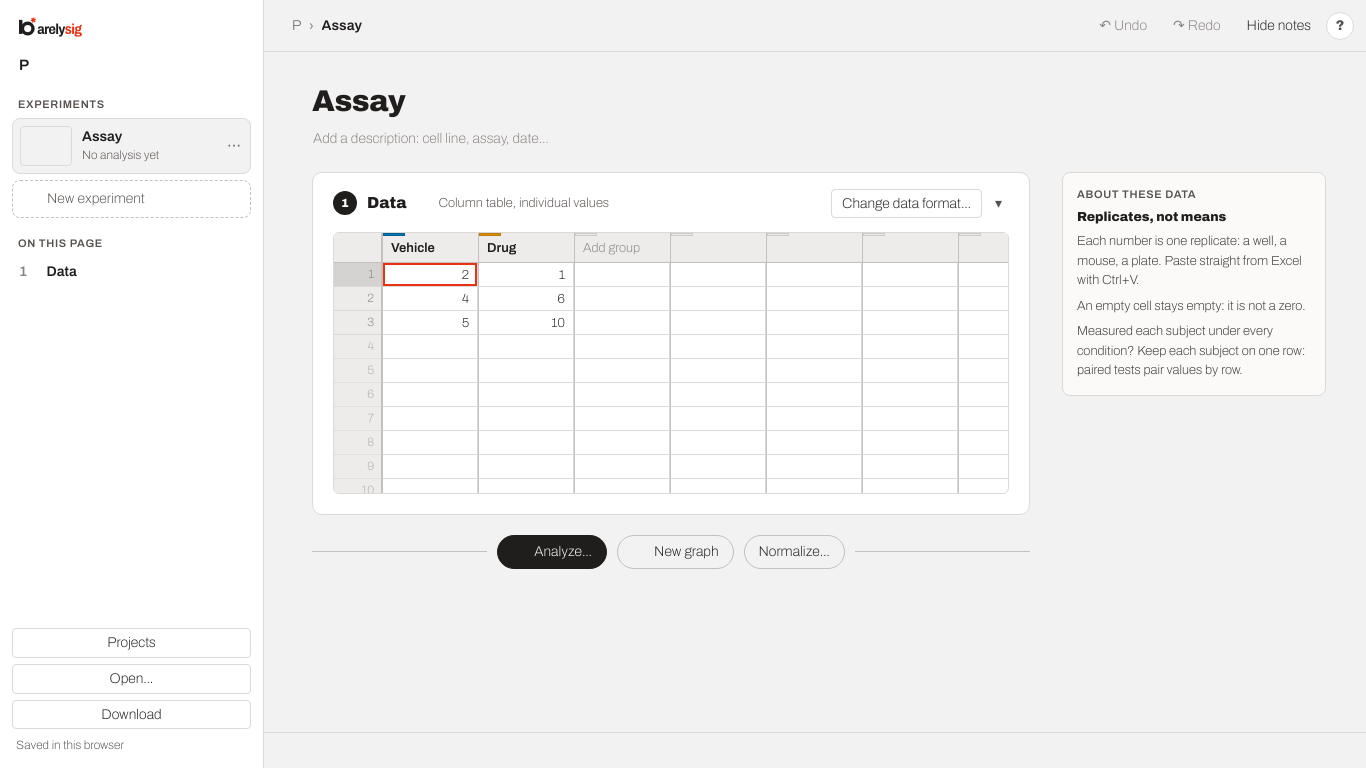
Normalize › makes a calculated table that follows the original and says what it is
The width and height of the screenshot is (1366, 768).
Click the button "Normalize…" at (794, 552), box [744,535,845,569]
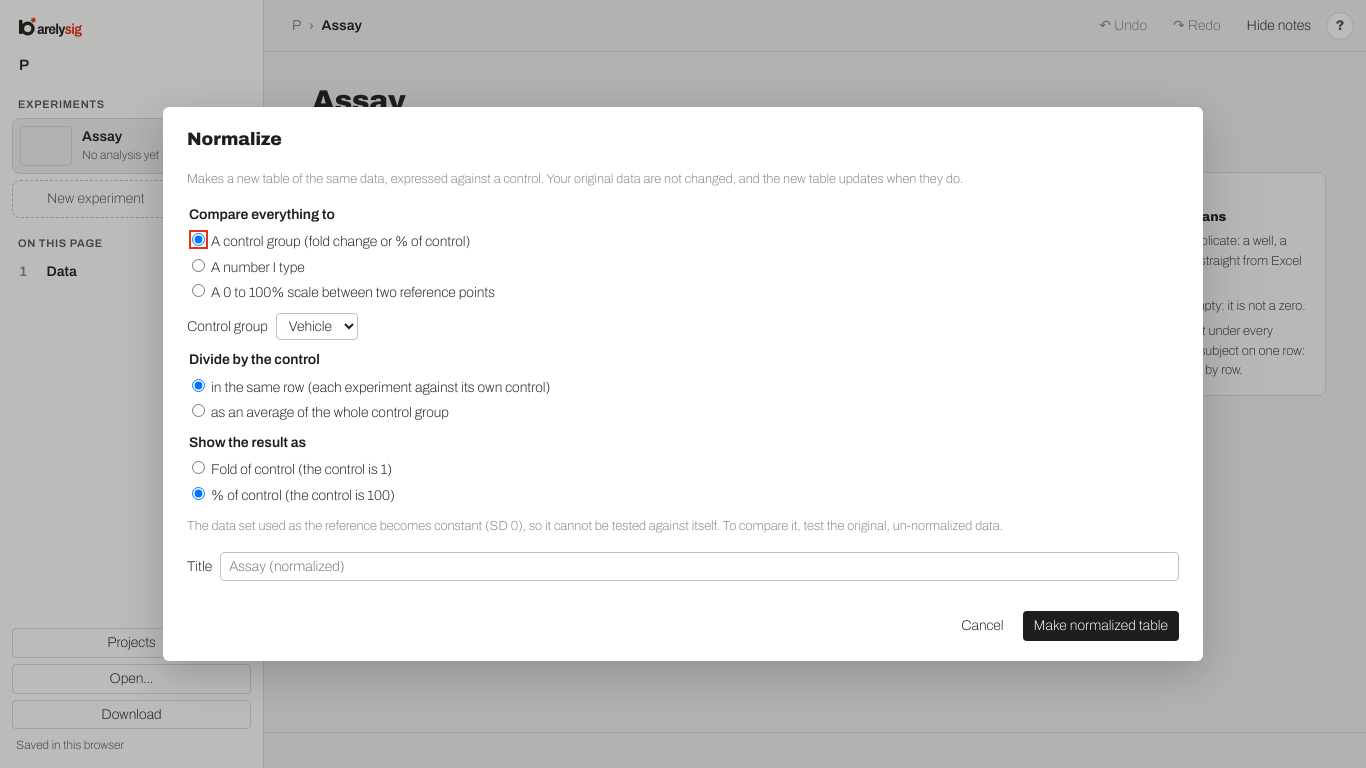
Click the button "Make normalized table" at (1101, 626), box [1023,611,1179,641]
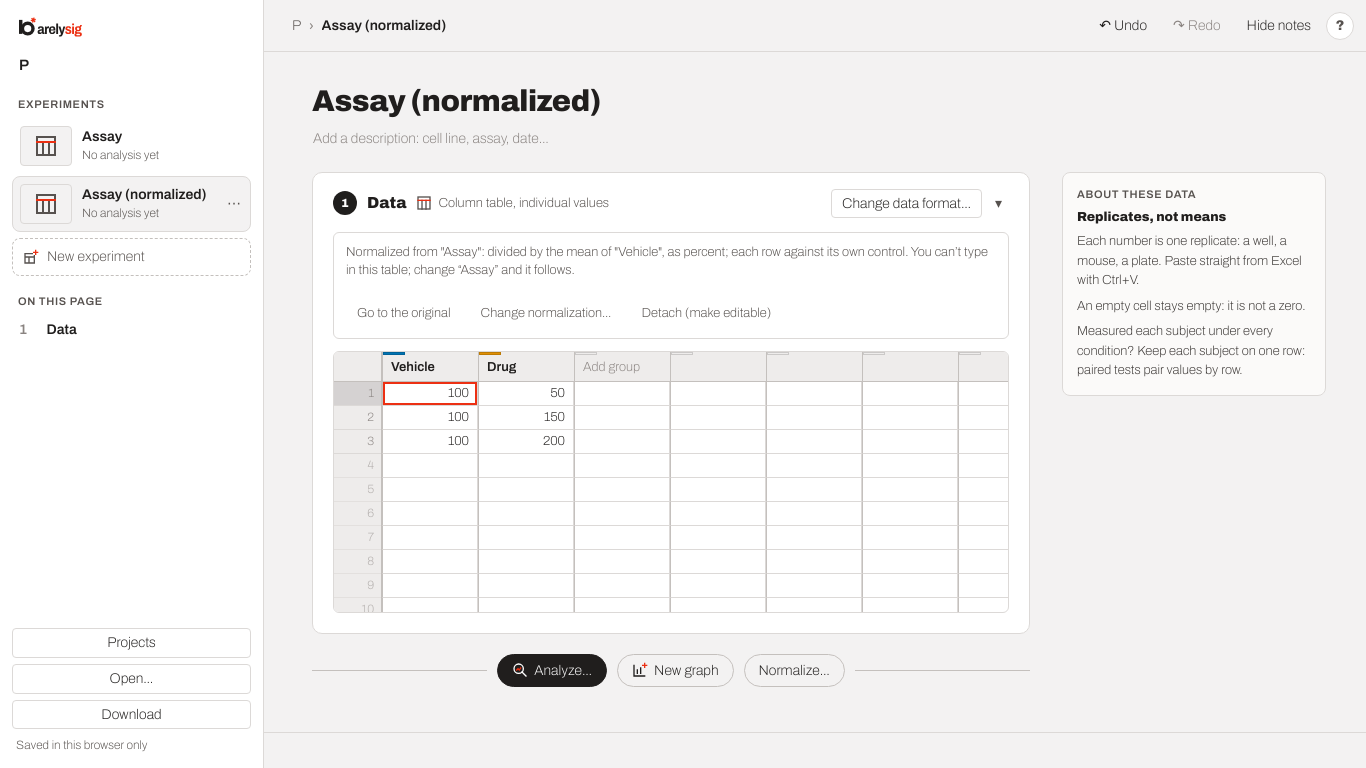
Check: the text "Assay (normalized)" below "Experiments" is shown, box [82,187,207,202]
Check: the button "Detach (make editable)" is shown, box [630,300,782,328]
